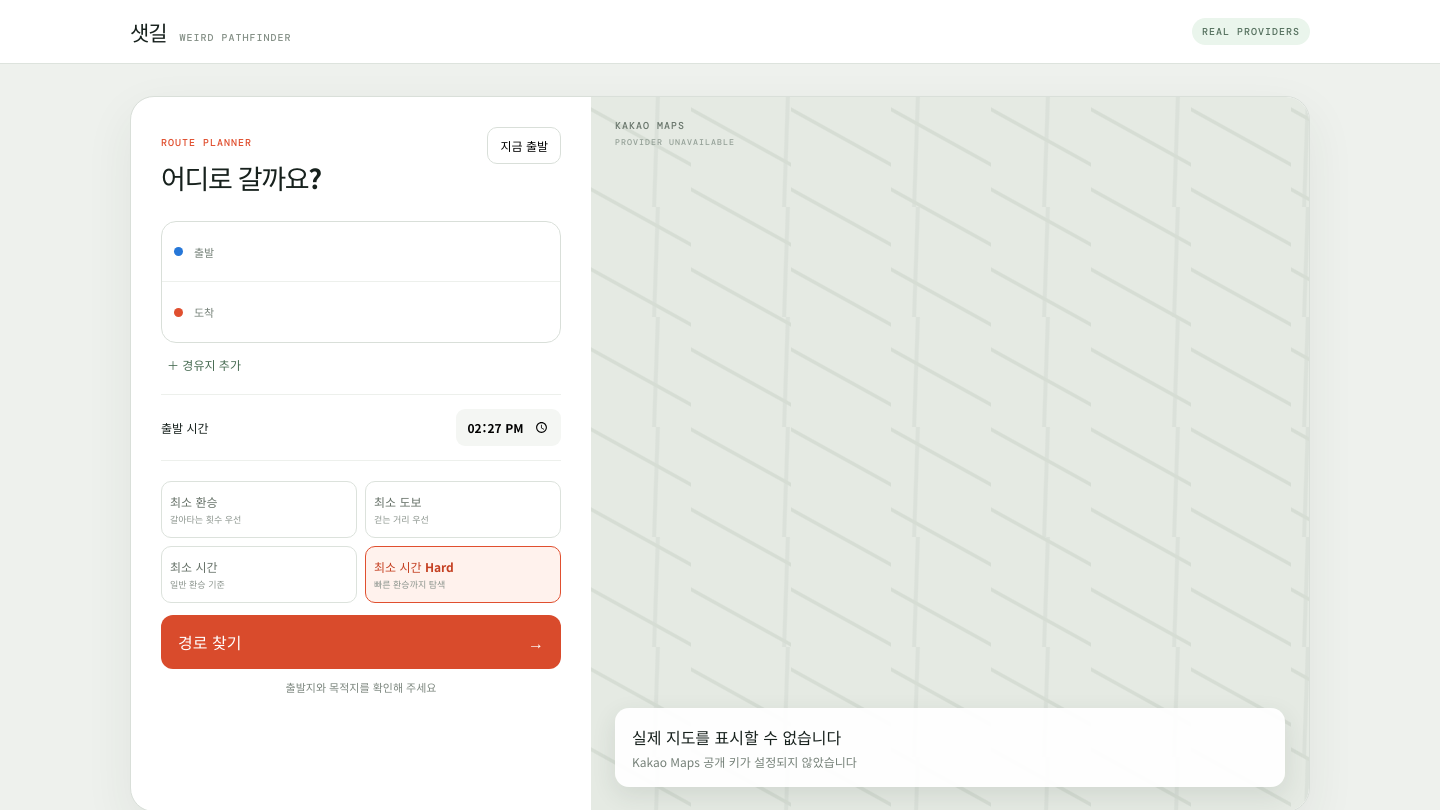
App planner › uses the current local time for real mode and refreshes it for now departure
Replace the text in the time field labelled "출발 시간" with "10:00" at [509, 428], box top-left (456, 409), bottom-right (561, 446)
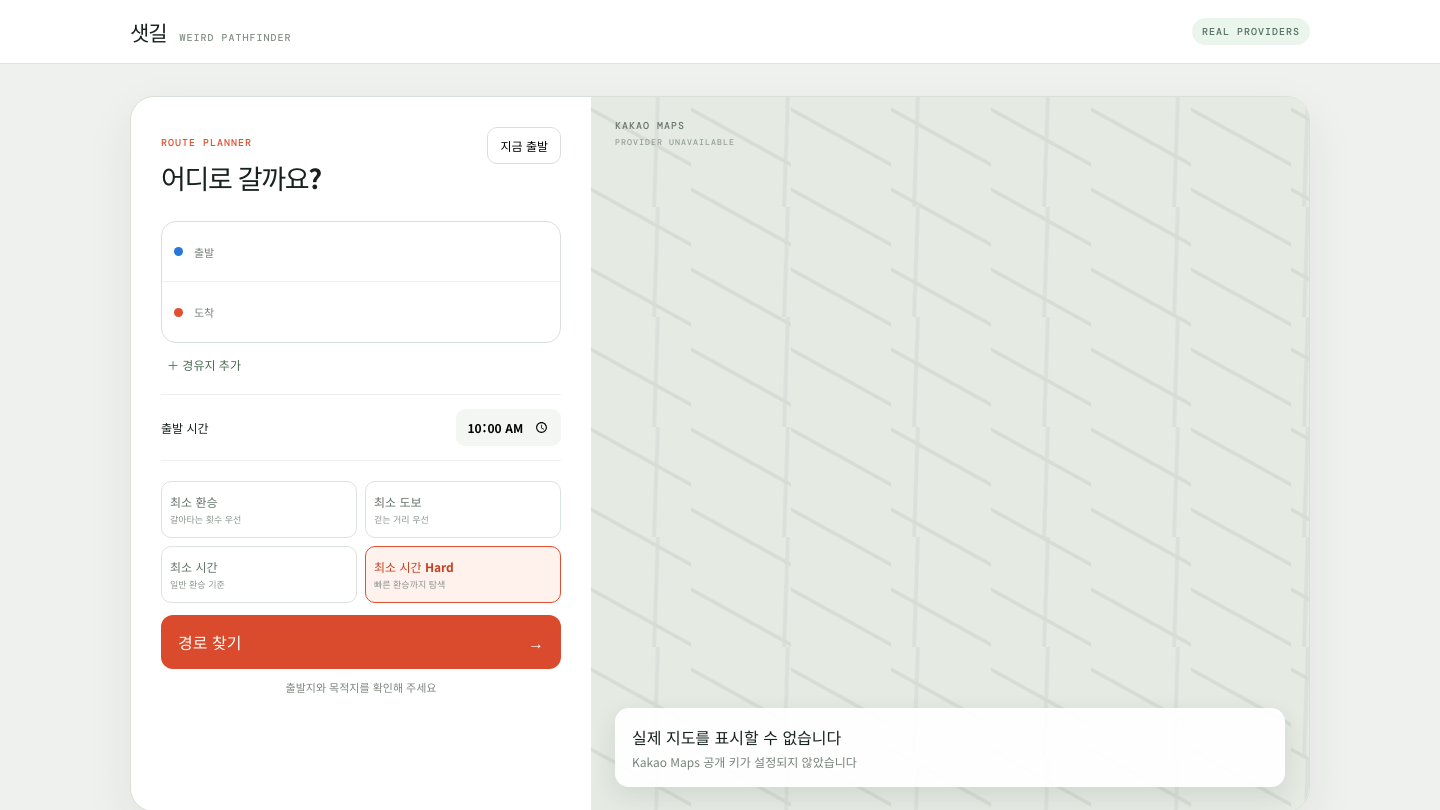
Click the button "지금 출발" at [524, 146], box top-left (488, 127), bottom-right (561, 164)
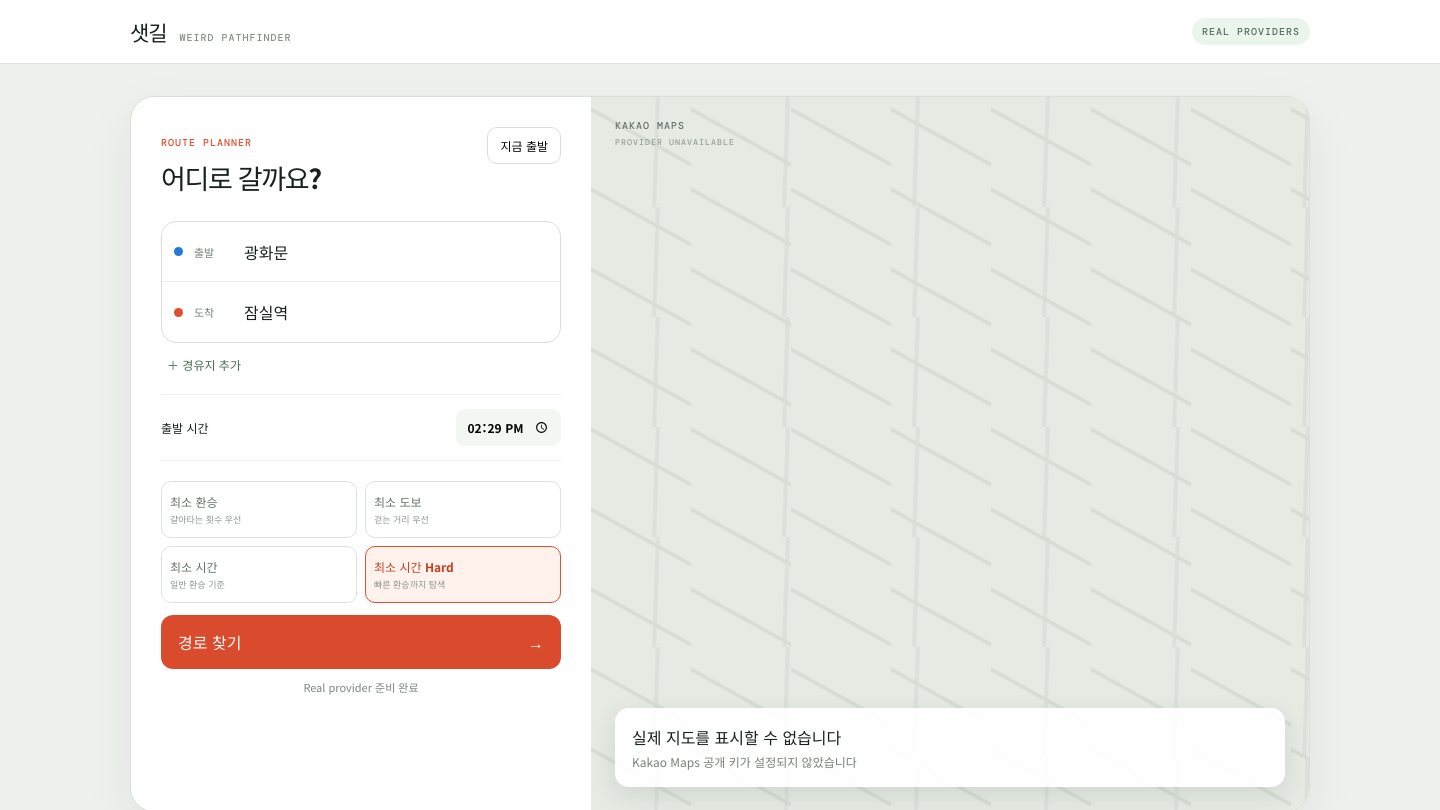
Check: the time field labelled "출발 시간" holds "14:29", box top-left (456, 409), bottom-right (561, 446)
